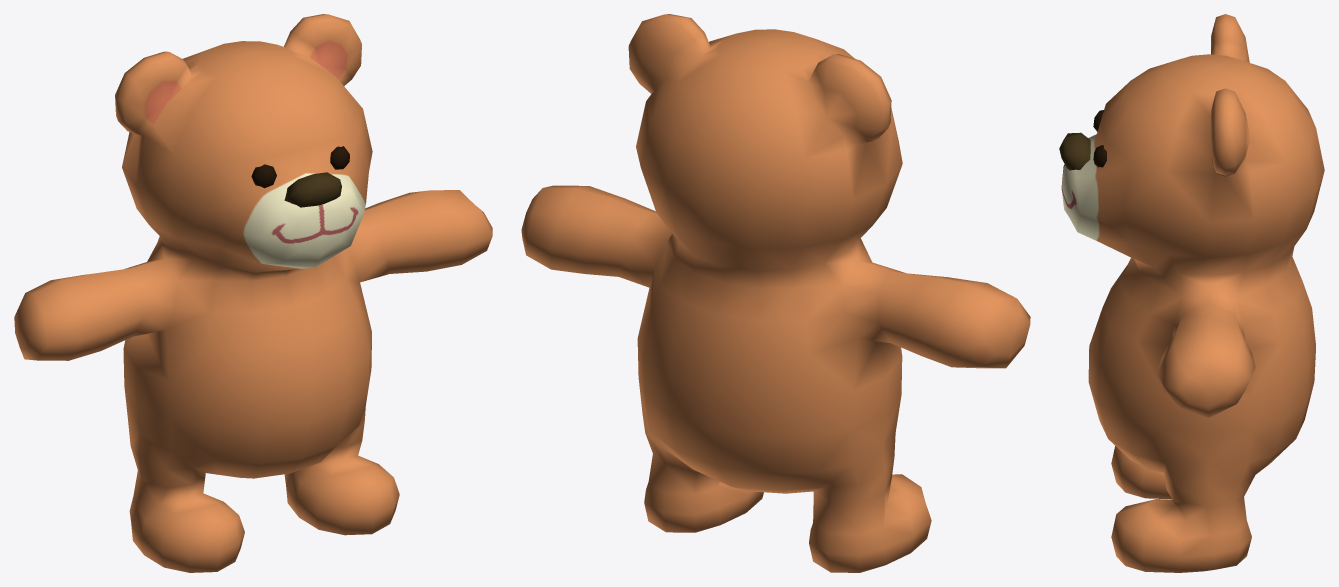
The model's file is Bear.FBX.
3 views of the same model, side by side, from view 1: azimuth 30°, elevation 25°; view 2: azimuth 150°, elevation 25°; view 3: azimuth 270°, elevation 25° (orthographic). The views are drawn at different scales.
Visible parts, largest first — view 1: Bear; view 2: Bear; view 3: Bear.
Part boxes in pixels (x1,y1,x2,y2): Bear: [14, 14, 492, 572]; Bear: [521, 14, 1030, 572]; Bear: [1059, 14, 1324, 572].
Bounding box in the file's own units: 43.13 × 43.29 × 22.1.
Materials: 1 (1 with a texture image).
